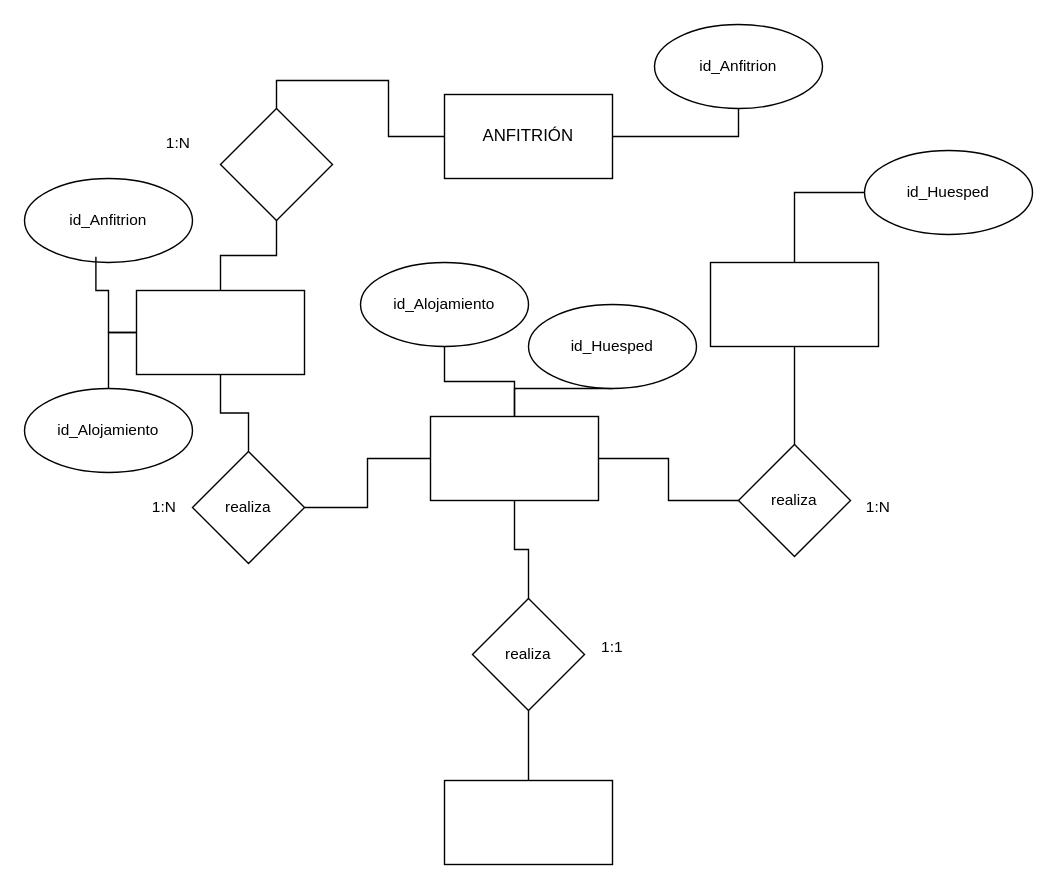
Some shapes in this 1057 by 889 pixel diagram are drawn without their labels. The shapes that lost their labels are listed below. From the top down, each one's box as (x1, y1, x2, y2) in pixels, then its label:
(219, 107, 332, 220): tiene
(709, 261, 878, 346): HUESPED
(135, 289, 304, 374): ALOJAMIENTO
(429, 415, 598, 500): RESERVA
(443, 779, 612, 864): PAGO
